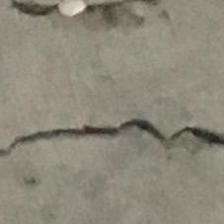Crack: (0, 88, 224, 176)
